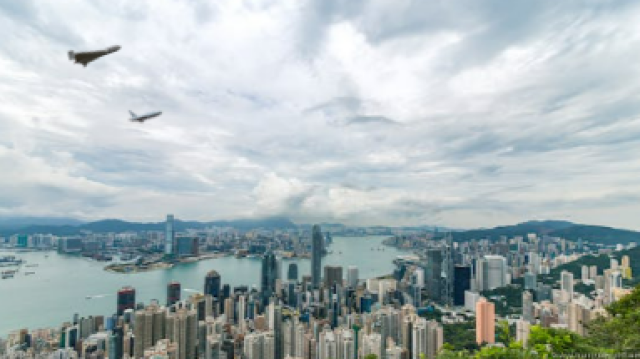military drone: (66, 44, 122, 67), (127, 109, 162, 123)
